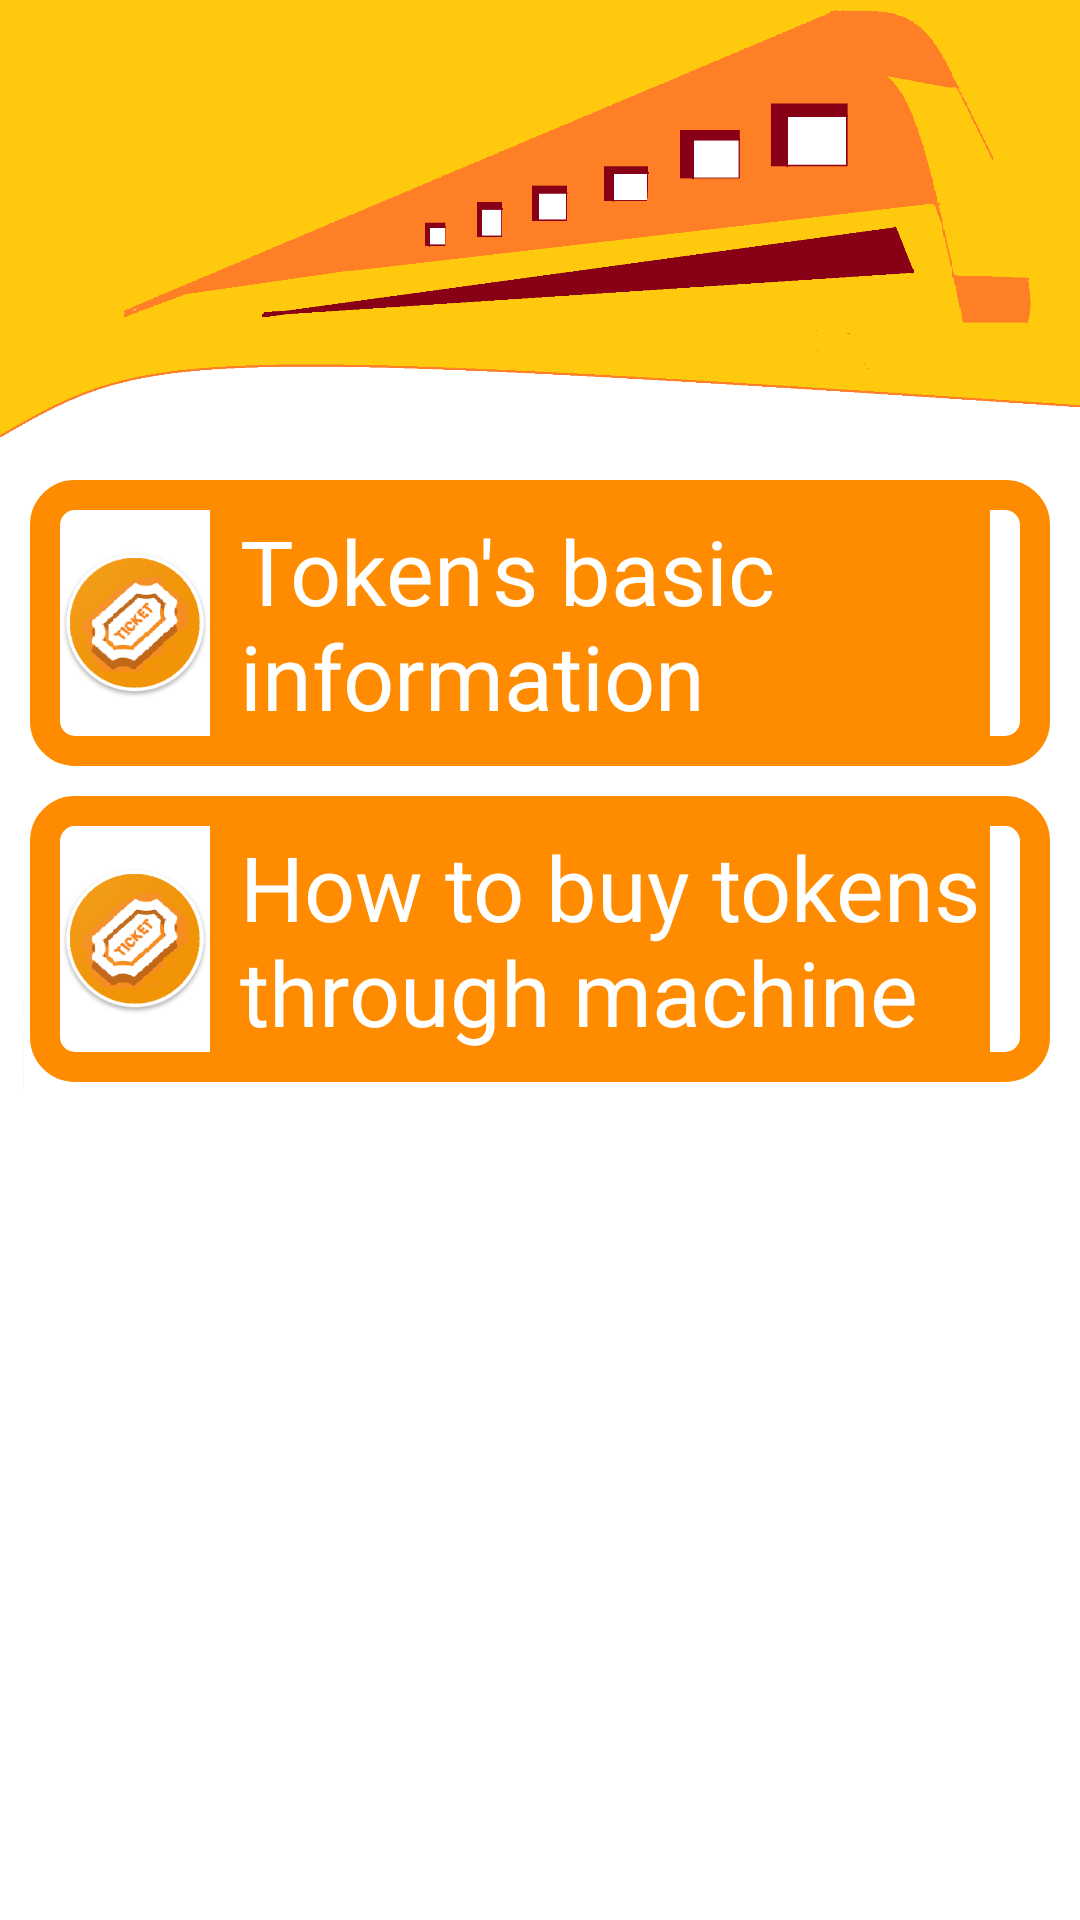

Screen size 1080px×1920px. Icon name, then its box in pixels as region(x1, y1, x2, y2):
ticket pro: region(65, 558, 205, 695), region(65, 874, 205, 1011)
